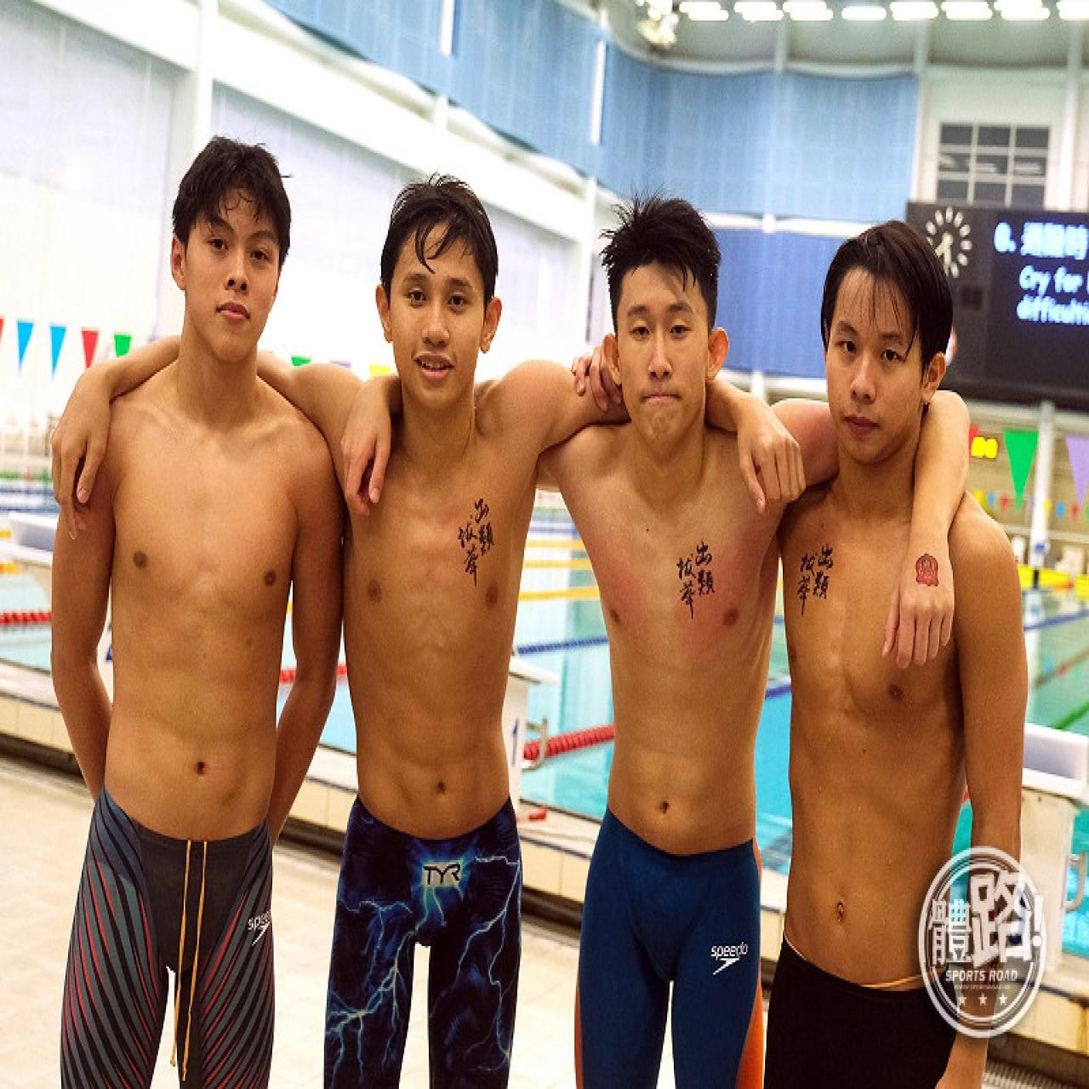NO_Safety_Vest: (778, 446, 1025, 1017), (67, 356, 321, 878), (348, 359, 564, 844), (573, 407, 785, 868)
Person: (32, 121, 345, 1089), (313, 129, 599, 1089), (557, 174, 845, 1089), (778, 163, 1042, 1089)
